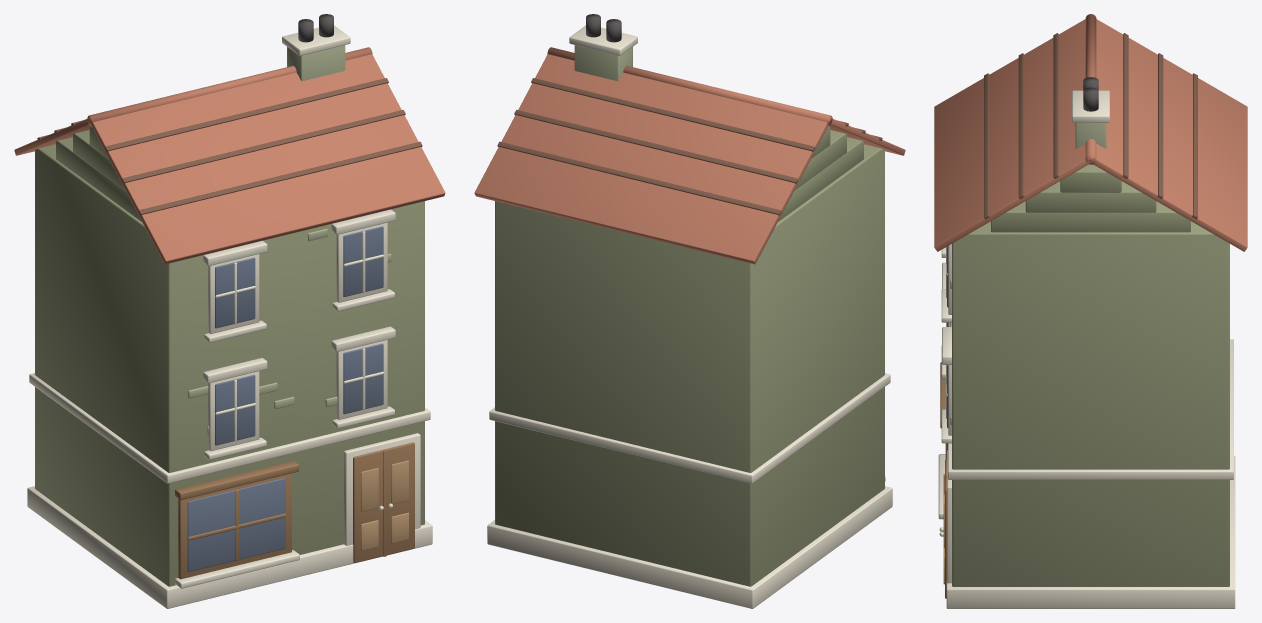
File: edificio_05a.glb
3 views of the same model, side by side, from view 1: azimuth 30°, elevation 25°; view 2: azimuth 150°, elevation 25°; view 3: azimuth 270°, elevation 25° (orthographic). The views are drawn at different scales.
Visible parts, largest first — view 1: corpo, falda_fronte, zoccolo, vetrina_vetro_C, fascia_pt, fin_p1_0_vetro, fin_p2_1_vetro, fin_p2_0_vetro, fin_p1_1_vetro, vetrina_cornice_C, porta_anta_L, porta_cornice (+22 smaller); view 2: corpo, falda_retro, zoccolo, fascia_pt, colmo, listello_retro_0, listello_retro_2, listello_retro_1, sottotetto_1, comignolo_fusto, comignolo_cappello, sottotetto_2 (+1 smaller); view 3: corpo, falda_fronte, falda_retro, zoccolo, sottotetto_1, fascia_pt, sottotetto_2, sottotetto_3, colmo, comignolo_cappello, listello_fronte_1, listello_fronte_2 (+6 smaller).
Boxes of the visible parts, box(x1,y1,x2,y2) form: corpo: box(35, 144, 424, 586); falda_fronte: box(90, 54, 445, 264); zoccolo: box(27, 486, 432, 608); vetrina_vetro_C: box(187, 478, 285, 571); fascia_pt: box(29, 373, 430, 483); fin_p1_0_vetro: box(215, 374, 255, 445); fin_p2_1_vetro: box(343, 226, 383, 296); fin_p2_0_vetro: box(215, 257, 255, 328); fin_p1_1_vetro: box(343, 343, 383, 414); vetrina_cornice_C: box(178, 473, 291, 579); porta_anta_L: box(353, 450, 383, 562); porta_cornice: box(344, 433, 420, 545); corpo: box(495, 144, 884, 586); falda_retro: box(474, 54, 829, 264); zoccolo: box(487, 486, 892, 608); fascia_pt: box(489, 373, 890, 483); colmo: box(547, 47, 832, 125); listello_retro_0: box(497, 141, 781, 215); listello_retro_2: box(531, 78, 815, 151); listello_retro_1: box(514, 110, 798, 183); sottotetto_1: box(778, 137, 863, 221); comignolo_fusto: box(574, 45, 632, 81); comignolo_cappello: box(569, 25, 637, 55); sottotetto_2: box(794, 130, 846, 190); corpo: box(952, 221, 1229, 586); falda_fronte: box(934, 19, 1091, 251); falda_retro: box(1091, 19, 1247, 251); zoccolo: box(946, 456, 1235, 608); sottotetto_1: box(991, 201, 1190, 232); fascia_pt: box(948, 339, 1233, 479); sottotetto_2: box(1025, 181, 1156, 212); sottotetto_3: box(1060, 164, 1121, 192); colmo: box(1085, 14, 1096, 164); comignolo_cappello: box(1072, 90, 1109, 122); listello_fronte_1: box(1018, 53, 1024, 199); listello_fronte_2: box(1053, 33, 1059, 178).
Bounding box in the file's own units: 6.04 × 9.94 × 5.64.
